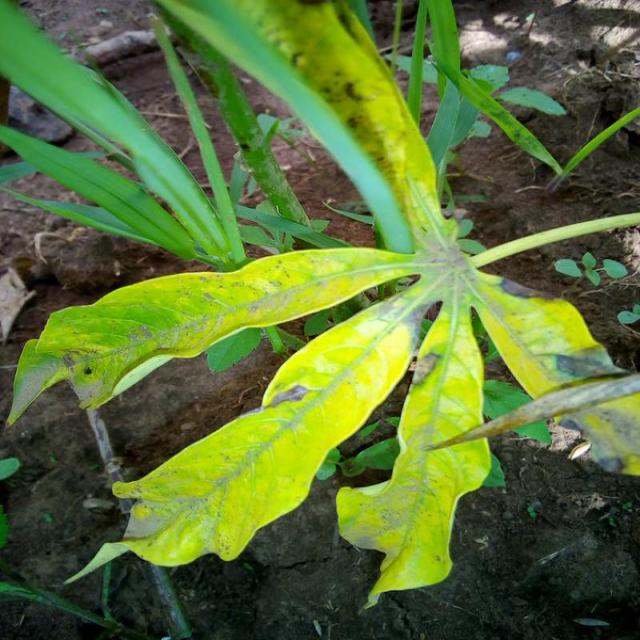cassava leaf: (2, 0, 638, 609)
